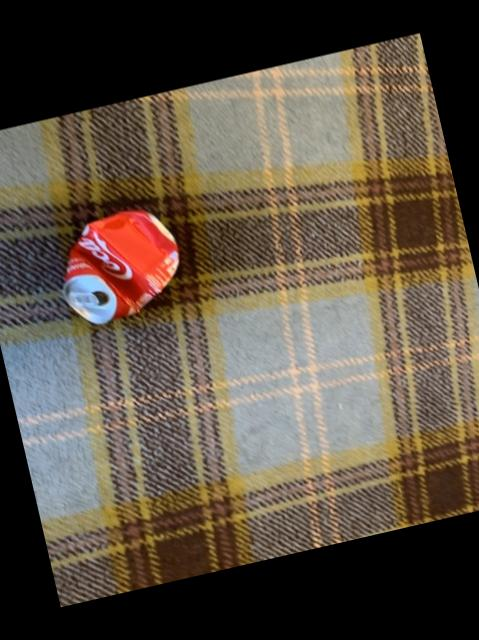metal: (61, 212, 176, 325)
